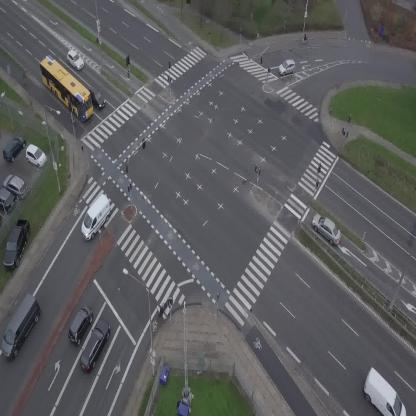bicycle: (156, 301, 168, 319), (19, 72, 30, 87), (300, 33, 308, 43)
bus: (31, 52, 102, 123)
car: (75, 316, 116, 375), (63, 302, 98, 347), (307, 210, 347, 248), (84, 84, 108, 112), (63, 49, 87, 72), (277, 58, 298, 77)
lorry: (0, 293, 48, 363), (352, 367, 413, 416), (72, 193, 120, 243)
